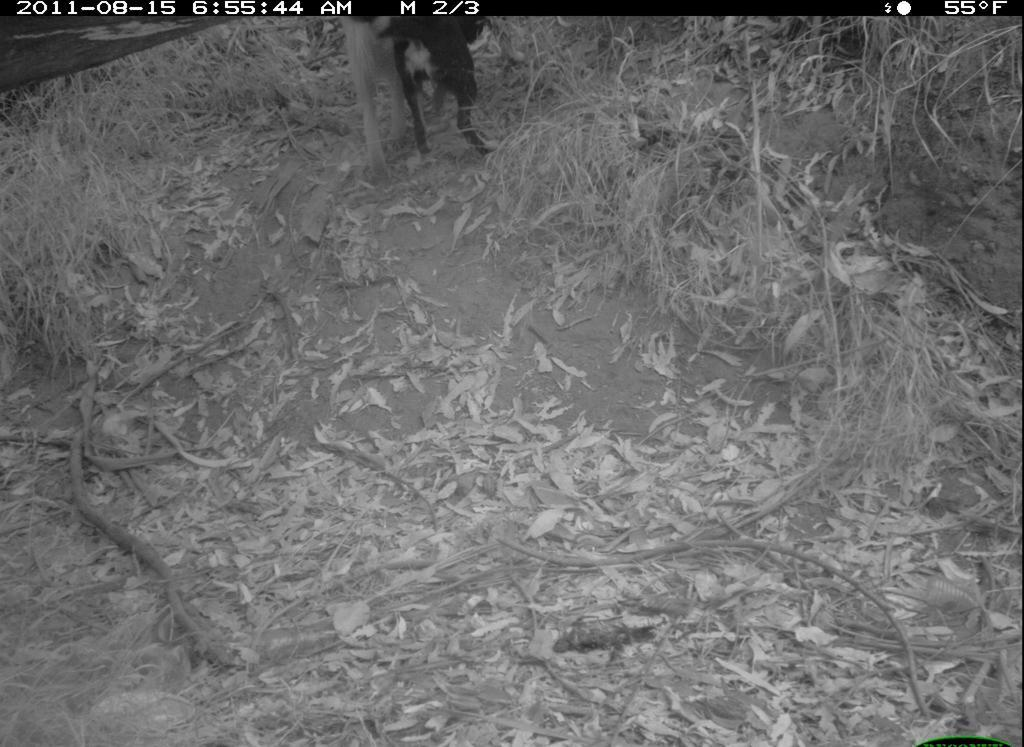dog: (353, 22, 513, 163)
